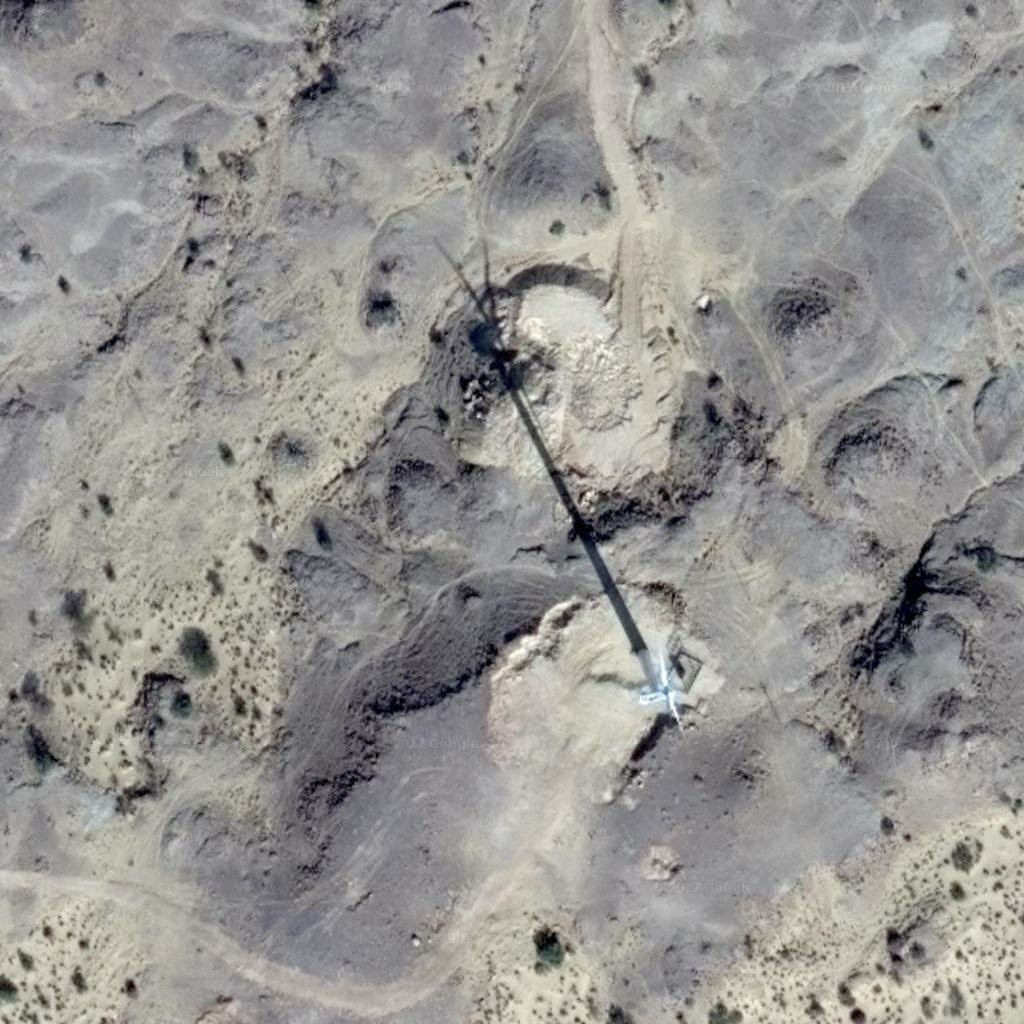Windmill: (435, 242, 650, 646)
